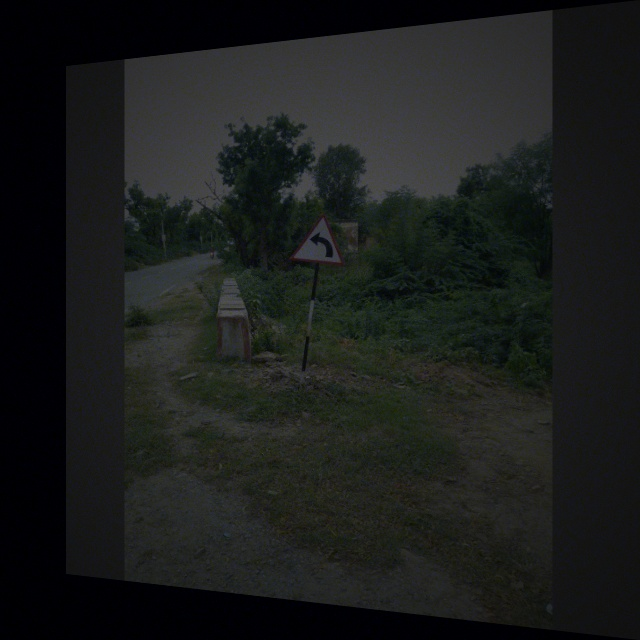Left_Hand_Curve: (288, 211, 349, 272)
